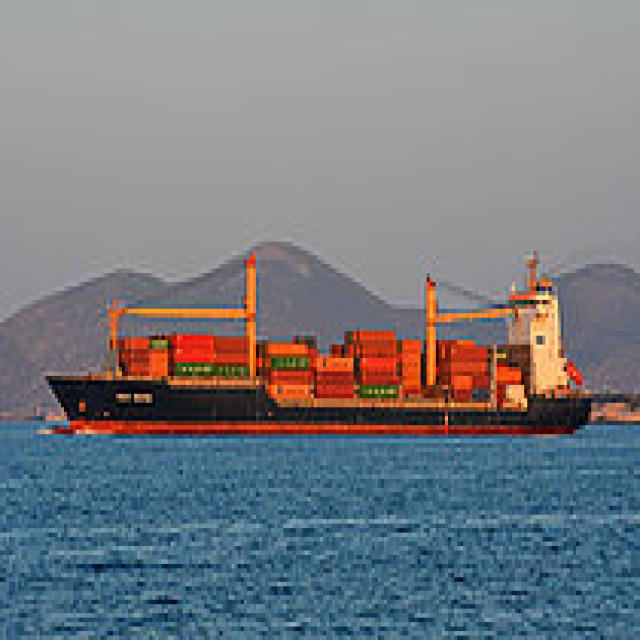Cargo: (40, 242, 591, 434)
